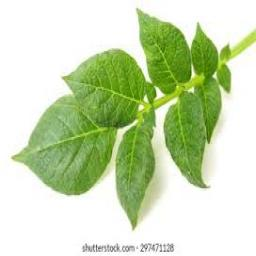Leaf: (11, 93, 117, 194), (60, 48, 146, 128), (134, 7, 192, 96), (164, 90, 211, 190), (115, 123, 155, 232), (194, 78, 222, 141), (191, 22, 219, 80)
